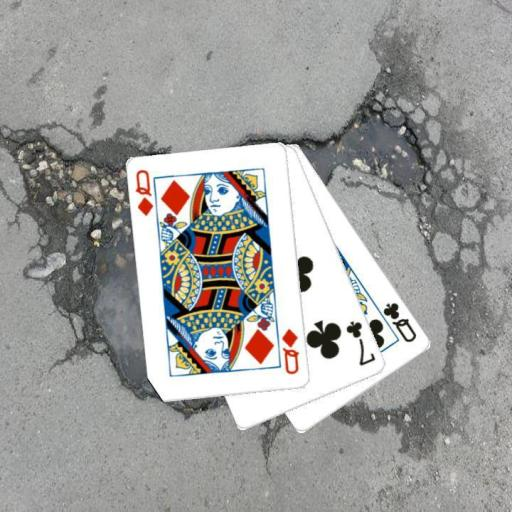card-corner: (342, 318, 378, 368), (380, 300, 419, 344), (132, 166, 155, 218), (279, 326, 301, 376)
